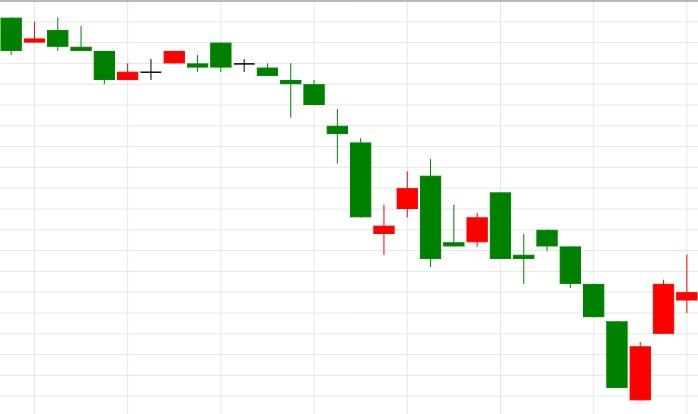morning_star_rise: (187, 42, 418, 255)
